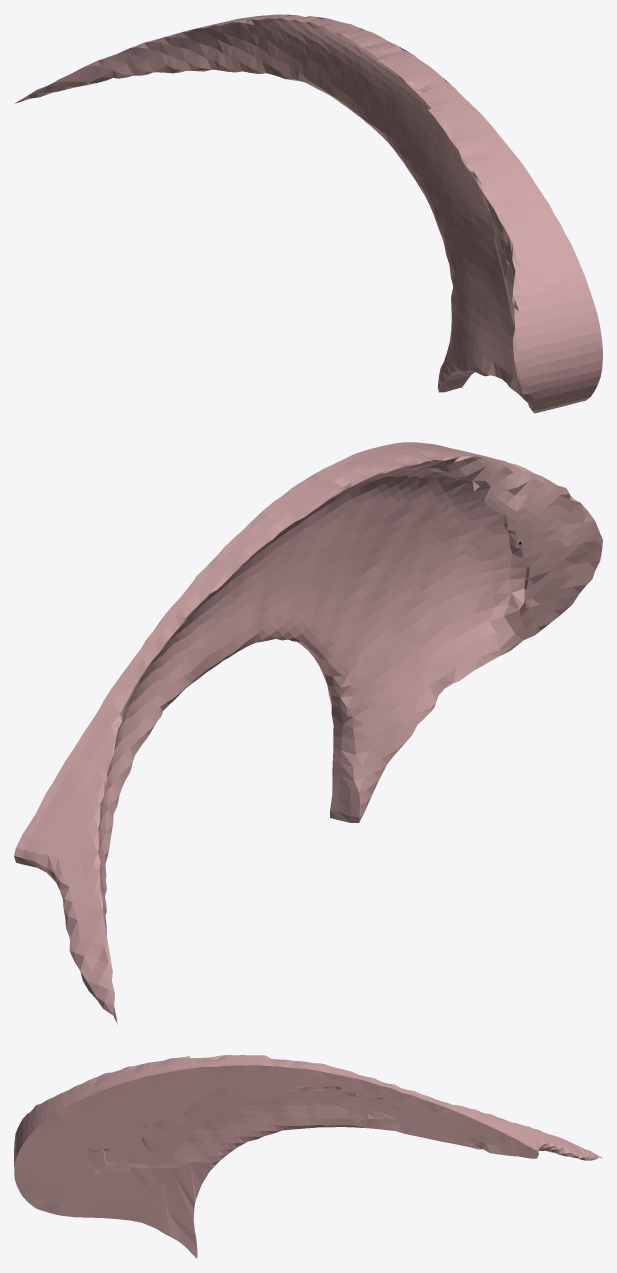
Rendered from Septum_pellucidum2.obj.
3 renders of one model, top to bottom at view 1: azimuth 30°, elevation 25°; view 2: azimuth 150°, elevation 25°; view 3: azimuth 270°, elevation 25°, orthographic. The views are drawn at different scales.
Parts seen in each view (by area): view 1: obj0; view 2: obj0; view 3: obj0.
Part boxes in pixels (<box>): obj0: <box>14,14,602,413</box>; obj0: <box>14,442,602,1024</box>; obj0: <box>14,1055,602,1258</box>.
Size of the model in its own units: 7.5 by 15.56 by 42.87.
Materials: 1 (1 with a texture image).
